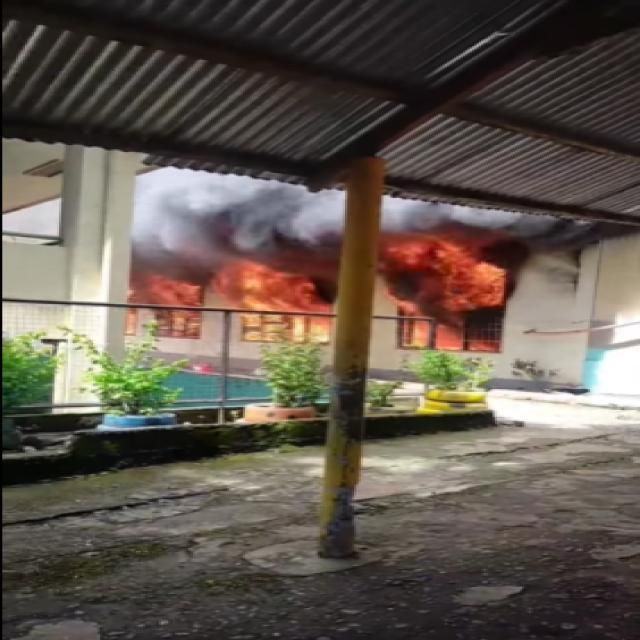Fire: (126, 262, 334, 346), (380, 232, 516, 348)
Smoke: (134, 166, 344, 291), (387, 195, 607, 265)
